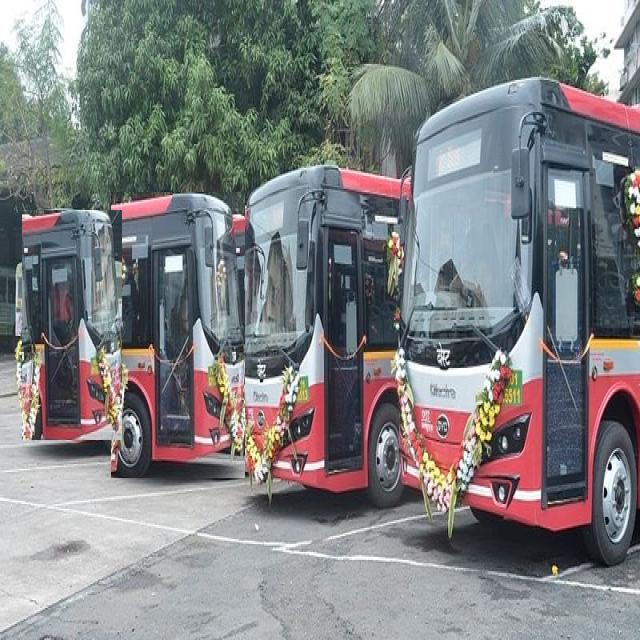bus: (400, 80, 640, 561), (238, 165, 401, 504), (111, 192, 245, 478), (22, 210, 122, 440)
